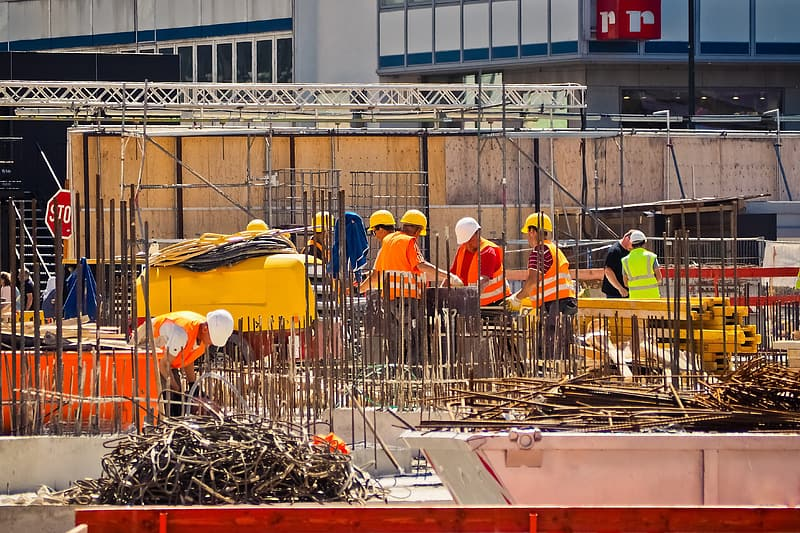Hard Hat: (200, 309, 235, 347), (520, 215, 553, 246), (453, 219, 483, 252), (368, 213, 397, 240), (311, 214, 336, 245), (401, 211, 429, 238), (630, 233, 648, 250)
Person: (379, 211, 465, 325), (130, 309, 236, 398), (510, 214, 576, 315), (442, 219, 510, 306), (300, 213, 341, 299), (355, 215, 396, 301), (622, 233, 662, 301), (604, 230, 629, 298)
Vest: (141, 311, 213, 369), (454, 235, 510, 305), (526, 229, 574, 306), (384, 224, 425, 301), (622, 243, 660, 298)
